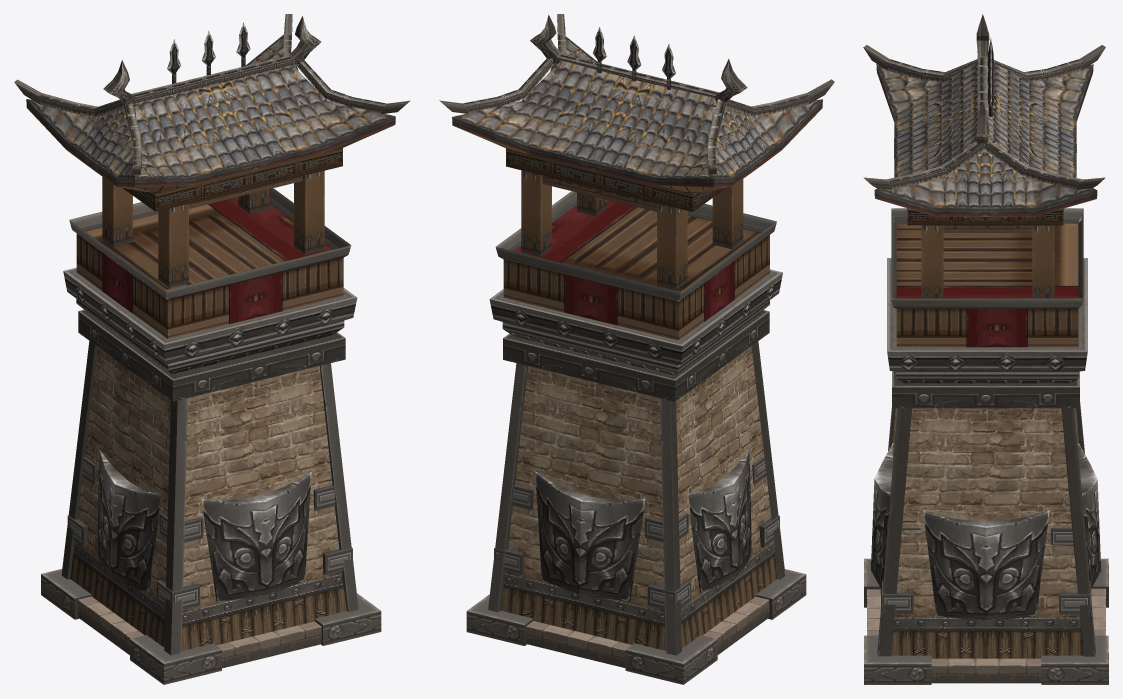
The model's file is Item_3001_dimianwujian_menta.FBX.
The picture shows the model from 3 angles, left to right: view 1: azimuth 30°, elevation 25°; view 2: azimuth 150°, elevation 25°; view 3: azimuth 270°, elevation 25°; orthographic projection.
Parts seen in each view (by area): view 1: Item_3001_dimianwujian_menta; view 2: Item_3001_dimianwujian_menta; view 3: Item_3001_dimianwujian_menta.
Boxes of the visible parts, box(x1,y1,x2,y2) form: Item_3001_dimianwujian_menta: box(14, 14, 410, 684); Item_3001_dimianwujian_menta: box(439, 14, 834, 684); Item_3001_dimianwujian_menta: box(863, 14, 1108, 684).
Bounding box in the file's own units: 520 × 1037 × 399.
